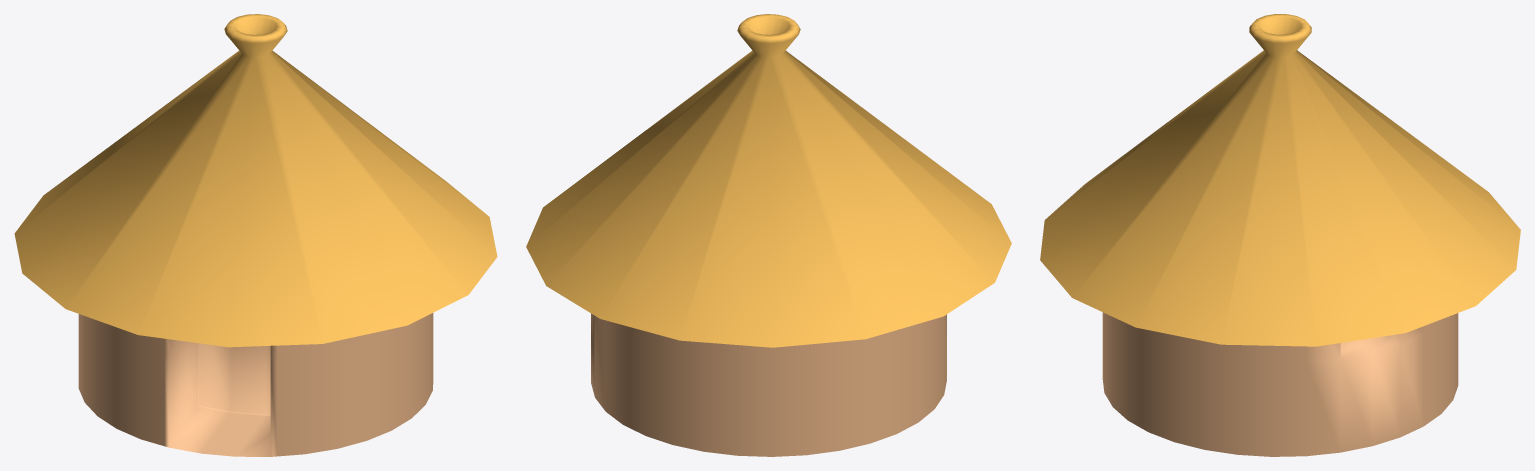
The model's file is House 2.fbx.
3 views of the same model, side by side, from view 1: azimuth 30°, elevation 25°; view 2: azimuth 150°, elevation 25°; view 3: azimuth 270°, elevation 25° (orthographic).
Parts seen in each view (by area): view 1: Cylinder.023; view 2: Cylinder.023; view 3: Cylinder.023.
Boxes of the visible parts, box(x1,y1,x2,y2) form: Cylinder.023: box(14, 14, 497, 456); Cylinder.023: box(526, 14, 1011, 456); Cylinder.023: box(1040, 14, 1520, 456).
Size of the model in its own units: 298 by 243 by 298.
